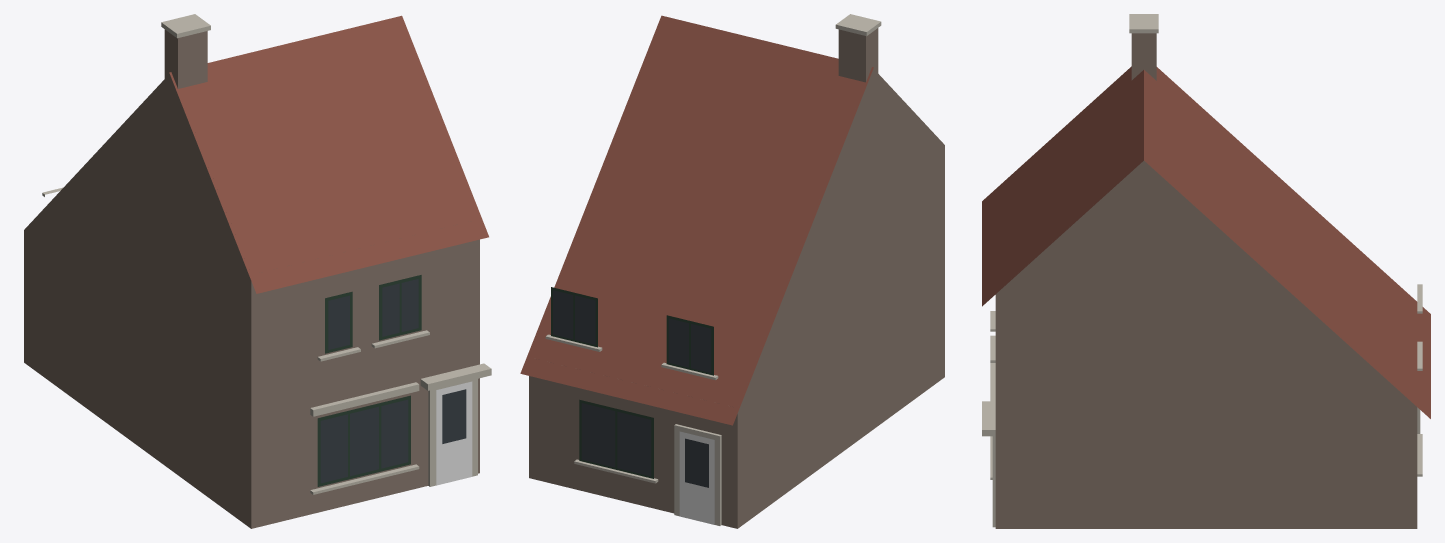
The model's file is nw-ma-green__cahn__2__gable__long__solid__mirror.glb.
3 renders of one model, left to right at view 1: azimuth 30°, elevation 25°; view 2: azimuth 150°, elevation 25°; view 3: azimuth 270°, elevation 25°, orthographic. The views are drawn at different scales.
Parts seen in each view (by area): view 1: nw-ma-green__cahn__2__gable__long__solid__mirror; view 2: nw-ma-green__cahn__2__gable__long__solid__mirror; view 3: nw-ma-green__cahn__2__gable__long__solid__mirror.
Part boxes in pixels (x1,y1,x2,y2): nw-ma-green__cahn__2__gable__long__solid__mirror: (24, 14, 491, 528); nw-ma-green__cahn__2__gable__long__solid__mirror: (520, 14, 944, 528); nw-ma-green__cahn__2__gable__long__solid__mirror: (982, 14, 1430, 528).
Bounding box in the file's own units: 5.54 × 9.97 × 9.88.
